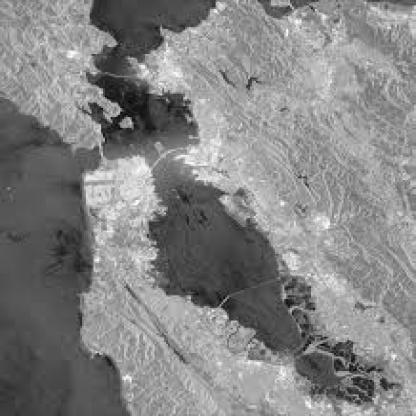oil: (59, 60, 183, 153), (36, 216, 103, 295), (176, 276, 250, 330), (156, 184, 224, 241)
